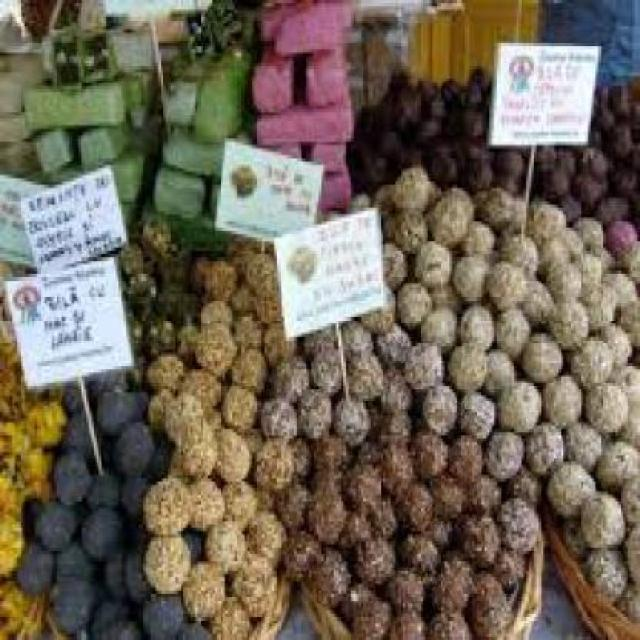BIODEGRADABLE: (465, 565, 509, 637), (544, 456, 593, 518), (138, 472, 188, 532), (575, 488, 623, 548), (338, 580, 388, 637), (563, 333, 611, 390), (171, 416, 215, 478), (141, 530, 188, 588), (47, 574, 96, 628), (230, 552, 275, 610), (0, 577, 43, 637), (428, 550, 472, 608), (494, 494, 538, 552), (92, 386, 143, 436), (578, 544, 625, 598), (32, 494, 79, 548), (452, 508, 497, 564), (306, 540, 349, 598), (582, 376, 626, 432), (593, 438, 638, 492), (412, 296, 456, 350), (304, 478, 341, 542), (183, 557, 222, 617), (252, 428, 292, 486), (112, 416, 148, 478), (185, 472, 222, 532), (342, 454, 383, 508), (203, 518, 242, 574), (538, 369, 578, 423), (212, 418, 248, 478), (276, 524, 319, 574), (190, 320, 233, 369), (143, 346, 188, 392), (442, 340, 484, 389), (352, 527, 390, 581), (454, 382, 492, 436), (500, 372, 538, 426), (544, 297, 588, 343), (138, 594, 185, 637), (82, 508, 122, 558), (524, 416, 561, 470), (403, 336, 440, 390), (575, 277, 611, 331), (22, 396, 64, 442), (388, 162, 430, 208), (12, 542, 52, 590), (49, 538, 97, 578), (378, 432, 410, 492), (482, 426, 522, 474), (242, 508, 280, 558), (393, 528, 438, 570), (420, 379, 455, 433), (344, 346, 381, 396), (534, 234, 571, 284), (207, 594, 250, 637), (180, 363, 223, 406), (412, 422, 445, 478), (454, 300, 494, 346), (518, 323, 558, 369), (497, 300, 529, 357), (218, 379, 255, 428), (333, 504, 369, 554), (195, 251, 234, 297), (222, 474, 255, 528), (332, 393, 368, 442), (296, 386, 329, 439), (429, 466, 465, 514), (49, 448, 86, 494), (450, 251, 487, 297), (410, 234, 447, 280), (496, 228, 536, 270), (386, 564, 425, 607), (258, 389, 292, 438), (592, 317, 628, 363), (241, 248, 277, 294), (486, 541, 522, 587), (375, 320, 411, 366), (395, 478, 428, 528), (87, 594, 128, 634), (266, 350, 309, 388), (484, 257, 522, 300), (0, 508, 23, 578), (304, 346, 339, 392), (425, 192, 460, 238), (78, 468, 118, 508), (119, 534, 143, 600), (518, 274, 550, 323), (388, 208, 428, 247), (163, 390, 200, 432), (602, 215, 638, 258), (228, 343, 264, 386), (528, 195, 564, 238), (388, 80, 420, 128), (158, 280, 196, 320), (501, 462, 537, 504), (491, 146, 527, 188), (358, 284, 393, 327), (274, 478, 306, 524), (536, 148, 572, 188), (64, 406, 98, 448), (259, 313, 290, 359), (395, 277, 428, 320), (151, 386, 183, 429), (123, 267, 155, 310), (543, 258, 579, 296), (422, 606, 466, 637), (466, 468, 497, 512), (563, 420, 595, 462), (477, 182, 509, 224), (153, 244, 189, 281), (0, 340, 20, 406), (136, 211, 169, 251), (610, 356, 638, 402), (452, 255, 485, 293), (85, 366, 118, 403), (338, 313, 371, 350), (420, 504, 452, 542), (378, 370, 410, 408), (457, 215, 489, 253), (404, 98, 436, 136), (195, 296, 230, 330), (252, 274, 279, 317), (600, 268, 632, 303), (0, 452, 20, 508), (620, 518, 638, 580), (386, 606, 422, 637), (449, 432, 480, 468), (570, 208, 601, 244), (381, 238, 405, 284), (143, 313, 175, 347), (576, 168, 606, 204), (613, 297, 638, 340), (365, 494, 393, 532), (459, 144, 487, 182), (457, 102, 485, 140), (344, 138, 368, 182), (232, 307, 262, 342), (121, 474, 148, 512), (301, 323, 334, 354), (378, 406, 408, 440), (22, 446, 44, 492), (605, 79, 630, 119), (614, 241, 638, 281), (428, 136, 452, 176), (442, 181, 470, 214), (0, 412, 23, 452), (559, 520, 586, 554), (610, 160, 638, 192), (614, 580, 638, 617), (250, 474, 272, 514), (148, 436, 168, 478), (102, 548, 122, 590), (598, 192, 628, 220), (225, 241, 257, 267), (504, 188, 522, 234), (119, 237, 143, 271), (376, 122, 398, 158), (435, 73, 459, 105), (590, 99, 613, 132), (460, 69, 482, 103), (581, 142, 605, 172), (56, 378, 79, 409), (176, 317, 196, 352), (183, 524, 203, 558), (354, 101, 375, 132), (174, 617, 206, 637), (608, 116, 624, 156), (105, 617, 136, 637), (434, 101, 454, 132), (560, 224, 578, 258), (484, 379, 514, 399), (371, 182, 392, 210), (425, 277, 450, 300), (586, 241, 608, 267), (395, 142, 423, 162), (622, 402, 638, 436), (422, 90, 442, 112), (627, 102, 638, 140), (375, 92, 388, 119), (368, 152, 383, 172), (424, 175, 436, 191)
